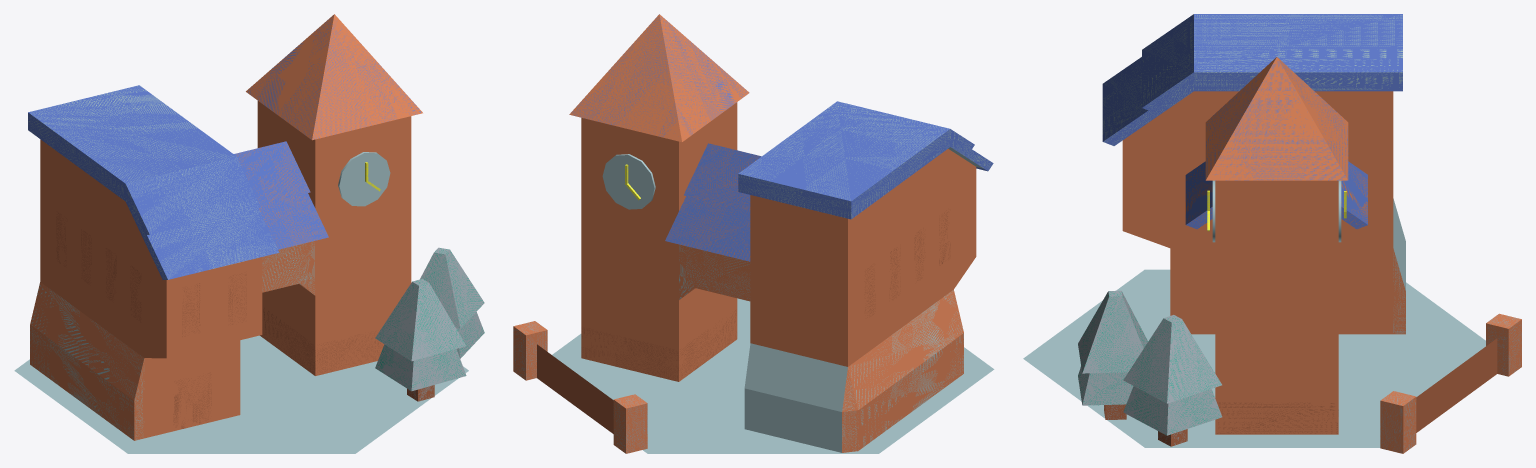
The model's file is Townhall.fbx.
3 views of the same model, side by side, from view 1: azimuth 30°, elevation 25°; view 2: azimuth 150°, elevation 25°; view 3: azimuth 270°, elevation 25° (orthographic). The views are drawn at different scales.
Parts seen in each view (by area): view 1: Group6, Group8, Group7, Model, Group5, Group1, Group3, Group10; view 2: Group6, Group8, Model, Group7, Group5, Group2, Group13; view 3: Group8, Group6, Group7, Model, Group3, Group2, Group1, Group5.
Part boxes in pixels (x1,y1,x2,y2): Group6: [30, 139, 262, 440]; Group8: [246, 14, 422, 375]; Group7: [28, 85, 279, 279]; Model: [14, 335, 468, 453]; Group5: [234, 141, 328, 295]; Group1: [375, 278, 466, 401]; Group3: [420, 247, 484, 358]; Group10: [338, 152, 390, 206]; Group6: [744, 149, 976, 452]; Group8: [569, 14, 749, 381]; Model: [552, 298, 994, 453]; Group7: [738, 101, 993, 219]; Group5: [665, 143, 761, 301]; Group2: [513, 321, 647, 453]; Group13: [602, 154, 655, 209]; Group8: [1205, 57, 1348, 434]; Group6: [1122, 91, 1405, 334]; Group7: [1102, 14, 1402, 145]; Model: [1023, 269, 1485, 447]; Group3: [1123, 315, 1222, 446]; Group2: [1380, 313, 1521, 453]; Group1: [1078, 290, 1148, 419]; Group5: [1185, 161, 1367, 229].
Size of the model in its own units: 0.8607 by 0.738 by 0.9454.
